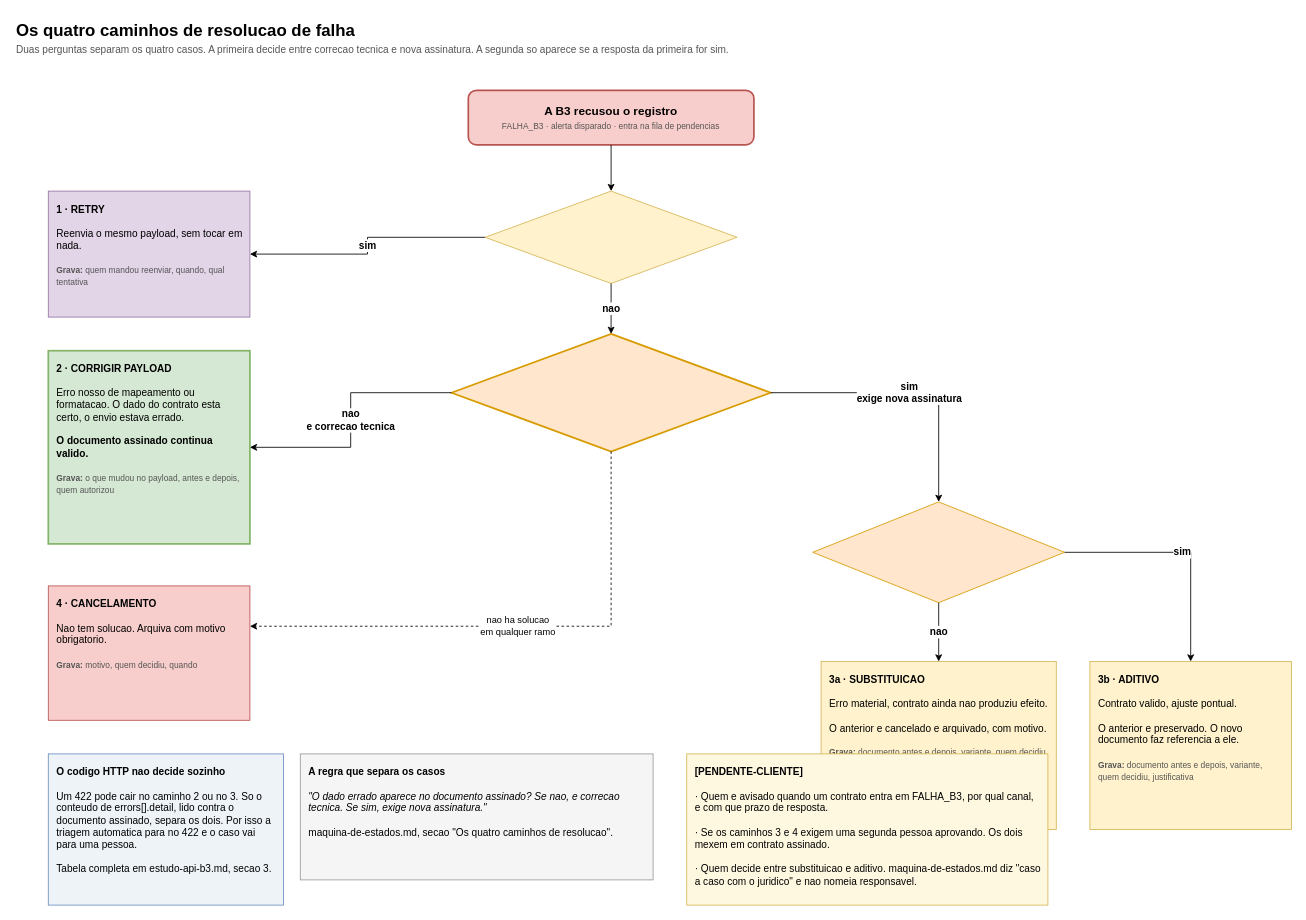
This 1306x920 diagram has some shape labels left out. Each missing label, with the box of its shape:
O contrato ja produziu efeito? decisao juridica, caso a caso: (812, 501, 1065, 603)
O dado errado aparece dentro do documento que as partes assinaram?: (450, 333, 771, 452)
O erro e transitorio? timeout, 5xx, 429, servico fora do ar: (484, 190, 737, 284)
